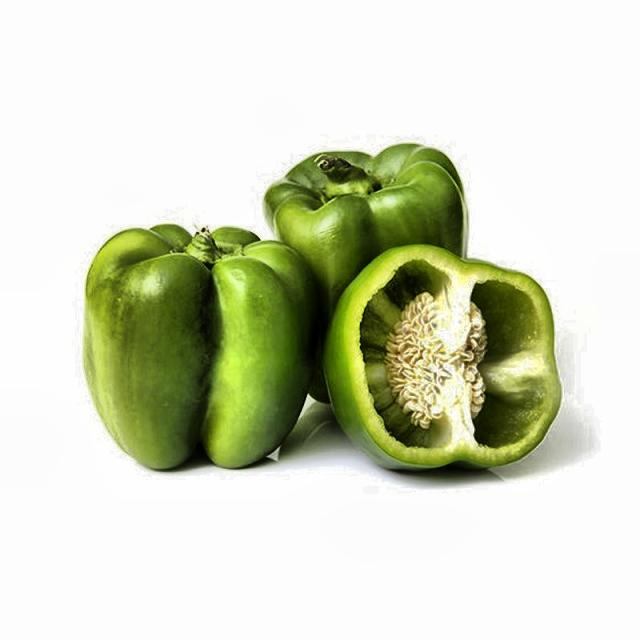capsicum: (91, 184, 322, 471)
